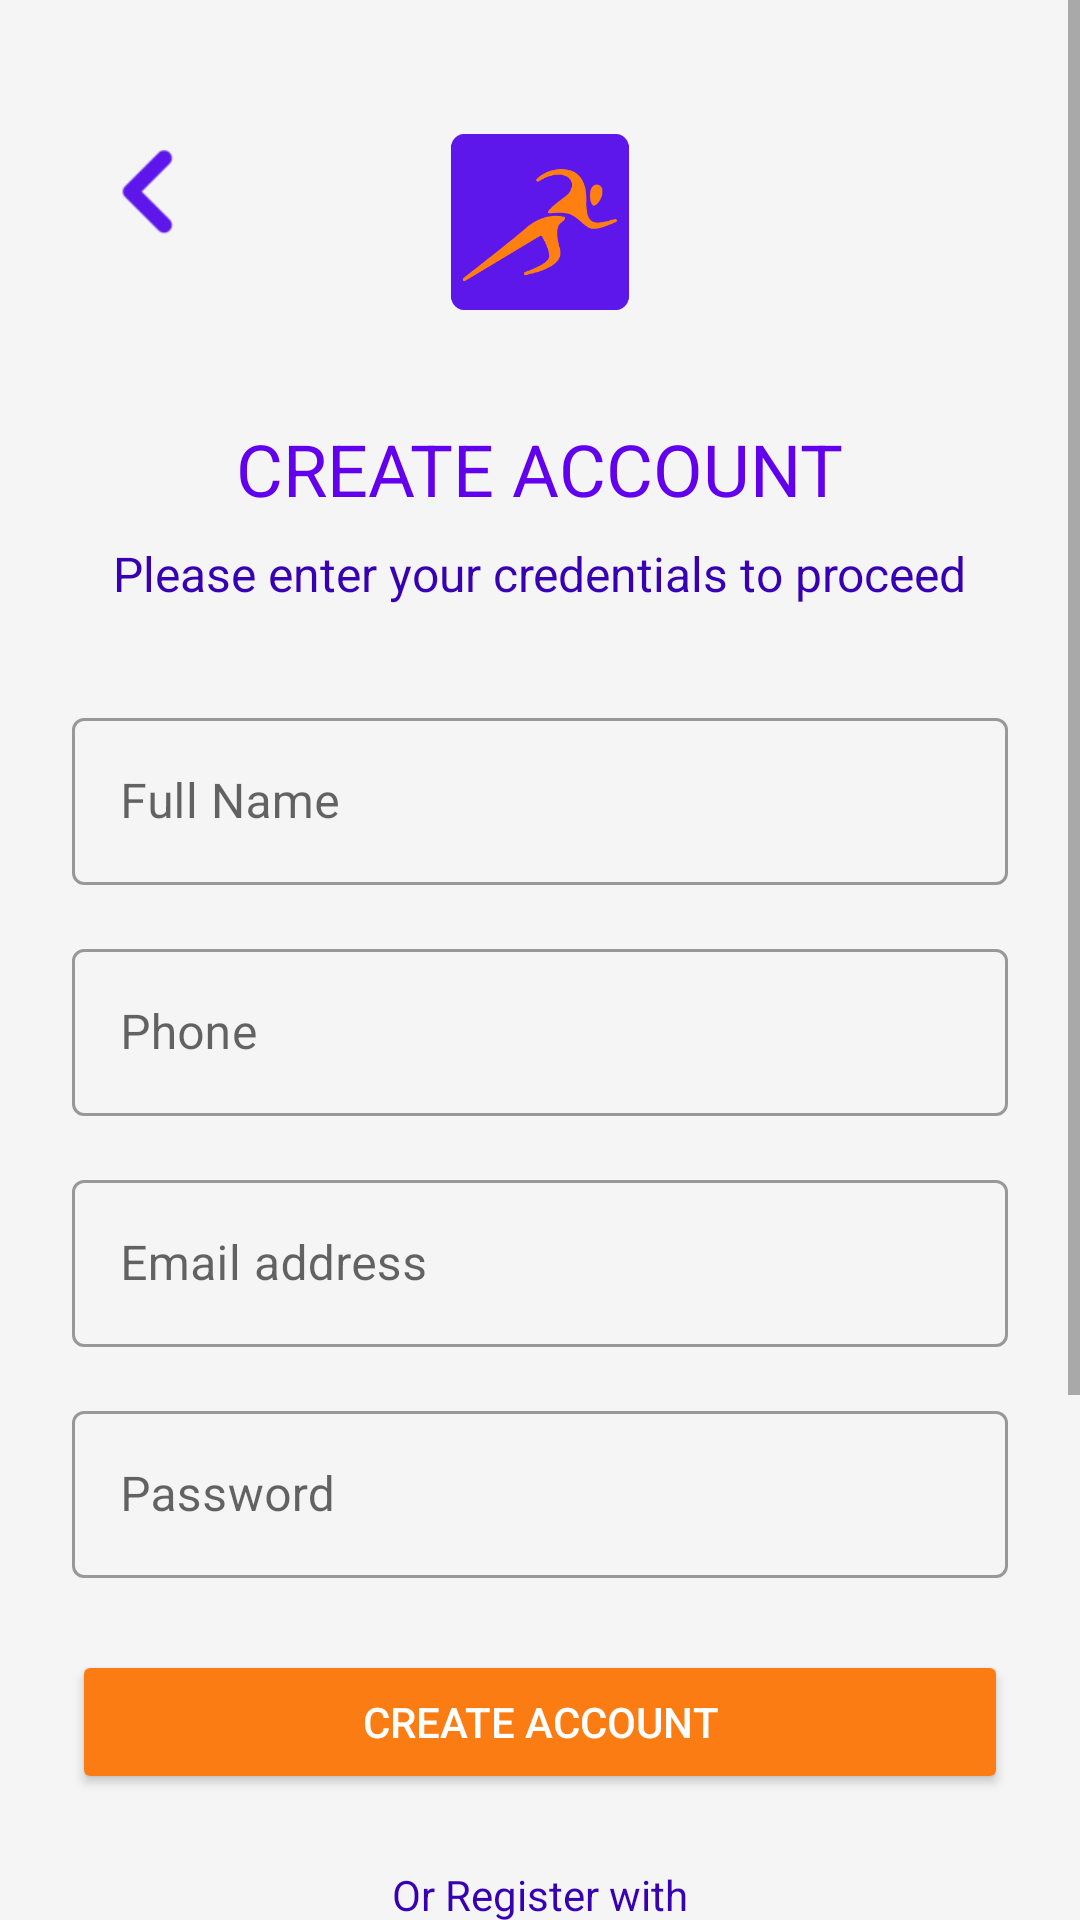

Where to tap for icons on this 1080×1920 app screen, as (x,y):
Back Button: (147,192)
